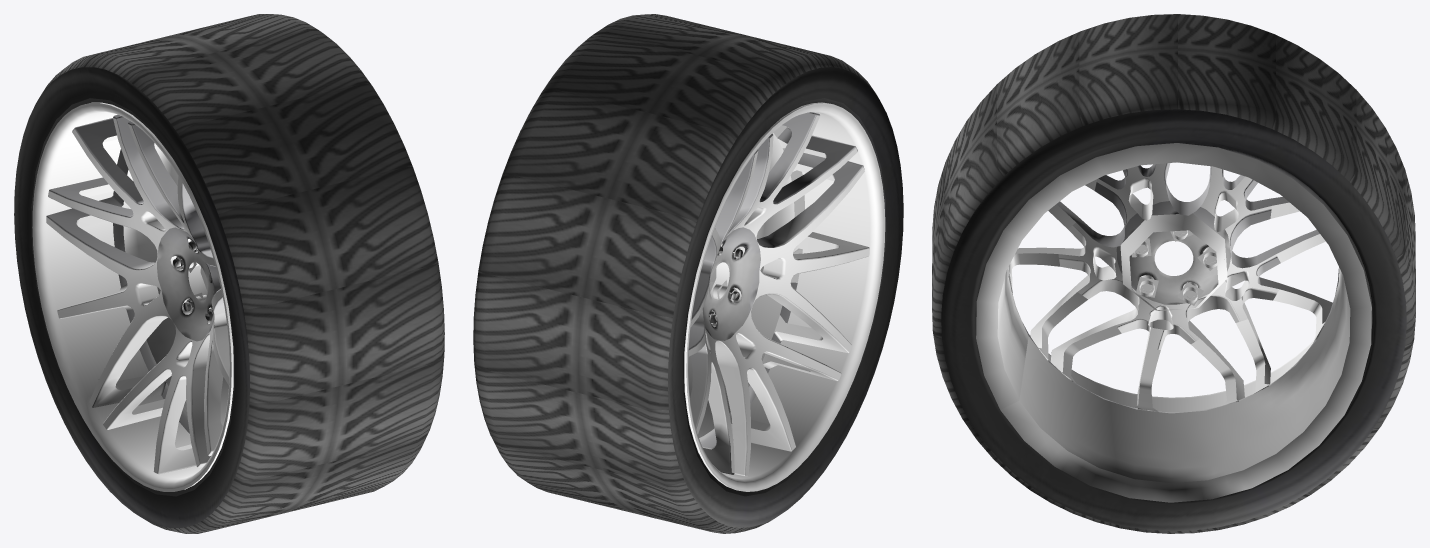
File: LlantaIzqBack.obj
The picture shows the model from 3 angles, left to right: view 1: azimuth 30°, elevation 25°; view 2: azimuth 150°, elevation 25°; view 3: azimuth 270°, elevation 25°; orthographic projection.
Parts seen in each view (by area): view 1: wheel_lb_pivot; view 2: wheel_lb_pivot; view 3: wheel_lb_pivot.
Boxes of the visible parts, x1=… form: wheel_lb_pivot: x1=14, y1=14, x2=444, y2=533; wheel_lb_pivot: x1=473, y1=14, x2=903, y2=533; wheel_lb_pivot: x1=932, y1=14, x2=1415, y2=533.
Bounding box in the file's own units: 2.46 × 5.24 × 5.24.
